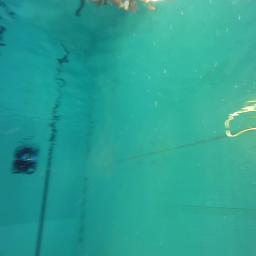front: (11, 158, 37, 174)
